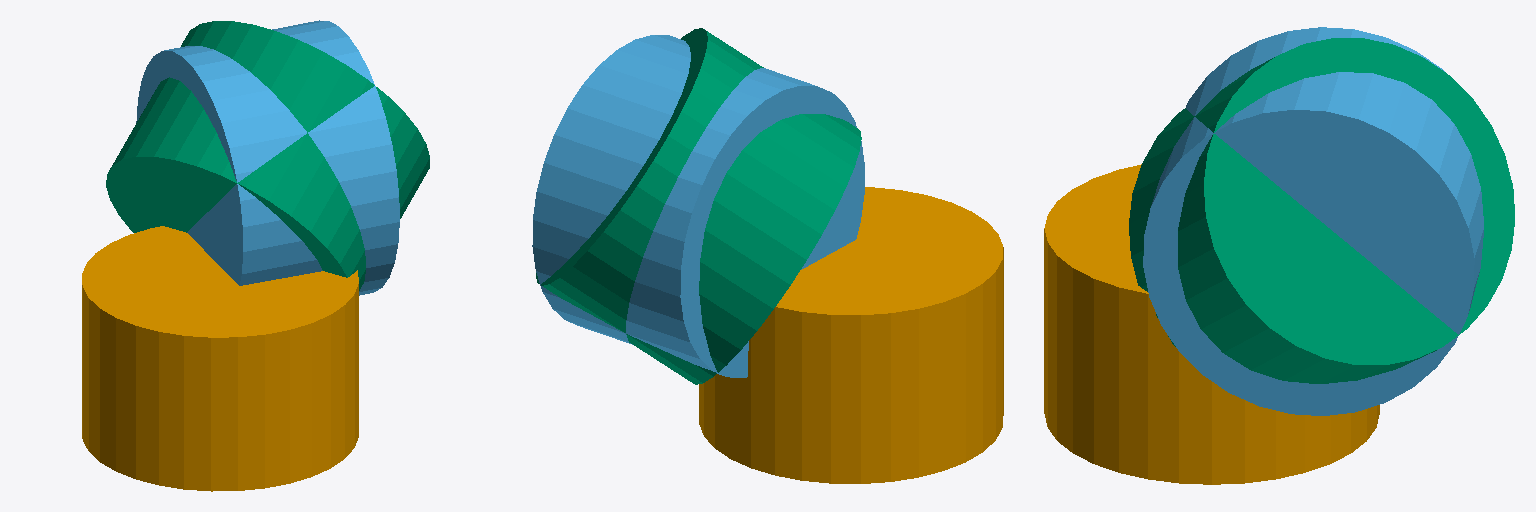
robot.urdf — pepe:
<?xml version="1.0"?><robot name="pepe">
	<link name="0">
		<visual>
			<geometry>
				<cylinder length="1.163314246530444" radius="0.9525115356694238"/>
			</geometry>
		</visual>
		<collision>
			<geometry>
				<cylinder length="1.163314246530444" radius="0.9525115356694238"/>
			</geometry>
		</collision>
		<inertial>
			<mass value="3.3157929778484196"/>
			<inertia ixx="0.03" iyy="0.03" izz="0.03" ixy="0" ixz="0" iyx="0"/>
		</inertial>
	</link>
	<link name="11">
		<visual>
			<geometry>
				<cylinder length="1.163314246530444" radius="0.9525115356694238"/>
			</geometry>
		</visual>
		<collision>
			<geometry>
				<cylinder length="1.163314246530444" radius="0.9525115356694238"/>
			</geometry>
		</collision>
		<inertial>
			<mass value="3.3157929778484196"/>
			<inertia ixx="0.03" iyy="0.03" izz="0.03" ixy="0" ixz="0" iyx="0"/>
		</inertial>
	</link>
	<link name="12">
		<visual>
			<geometry>
				<cylinder length="1.163314246530444" radius="0.9525115356694238"/>
			</geometry>
		</visual>
		<collision>
			<geometry>
				<cylinder length="1.163314246530444" radius="0.9525115356694238"/>
			</geometry>
		</collision>
		<inertial>
			<mass value="3.3157929778484196"/>
			<inertia ixx="0.03" iyy="0.03" izz="0.03" ixy="0" ixz="0" iyx="0"/>
		</inertial>
	</link>
	<joint name="11_to_0" type="revolute">
		<parent link="0"/>
		<child link="11"/>
		<axis xyz="1 0 0"/>
		<limit effort="1" upper="-3.1415" lower="3.1415" velocity="1"/>
		<origin rpy="10.972005849304917 0.6951093742314596 1.4270379558439286" xyz="0.7395836242400841 0.6250522943068633 0.9690711770830384"/>
	</joint>
	<joint name="12_to_0" type="revolute">
		<parent link="0"/>
		<child link="12"/>
		<axis xyz="1 0 0"/>
		<limit effort="1" upper="-3.1415" lower="3.1415" velocity="1"/>
		<origin rpy="16.458008773957374 0.6951093742314596 1.4270379558439286" xyz="0.7395836242400841 0.6250522943068633 0.9690711770830384"/>
	</joint>
</robot>

--- Facts derived from the render (not from the file) ---
The picture shows the robot from 3 angles, left to right: view 1: azimuth 30°, elevation 25°; view 2: azimuth 150°, elevation 25°; view 3: azimuth 270°, elevation 25°; orthographic projection.
Robot: pepe — 3 links, 2 joints (2 revolute); root link 0; default pose: every joint at zero.
Visible links, largest first — view 1: 0, 12, 11; view 2: 0, 11, 12; view 3: 11, 12, 0.
Link boxes in pixels (x1,y1,x2,y2): 0: [82, 226, 358, 491]; 12: [106, 21, 429, 290]; 11: [136, 20, 399, 295]; 0: [699, 187, 1003, 483]; 11: [532, 35, 864, 377]; 12: [536, 28, 861, 384]; 11: [1143, 27, 1483, 415]; 12: [1129, 38, 1514, 383]; 0: [1044, 164, 1379, 484].
Size in the robot's own frame: 2.76 by 2.68 by 2.66 metres.
Geometry: primitives only (box / cylinder / sphere), no mesh files.
